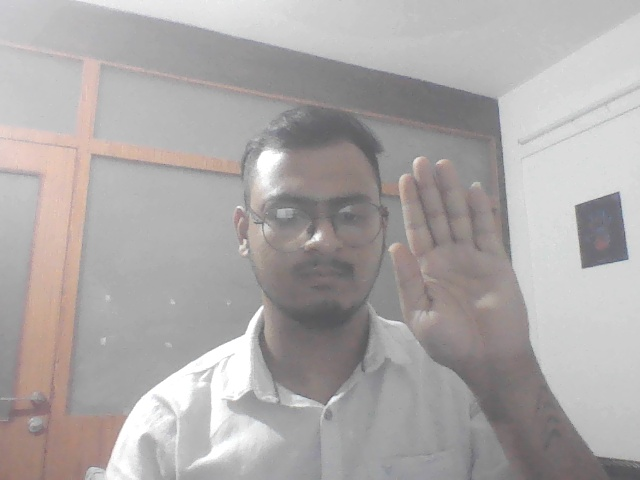Hello: (386, 152, 545, 372)
